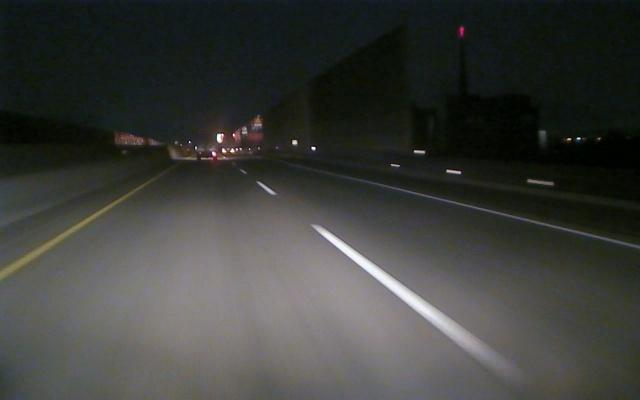lane: (256, 182, 517, 378), (324, 171, 640, 250), (1, 192, 131, 279)
